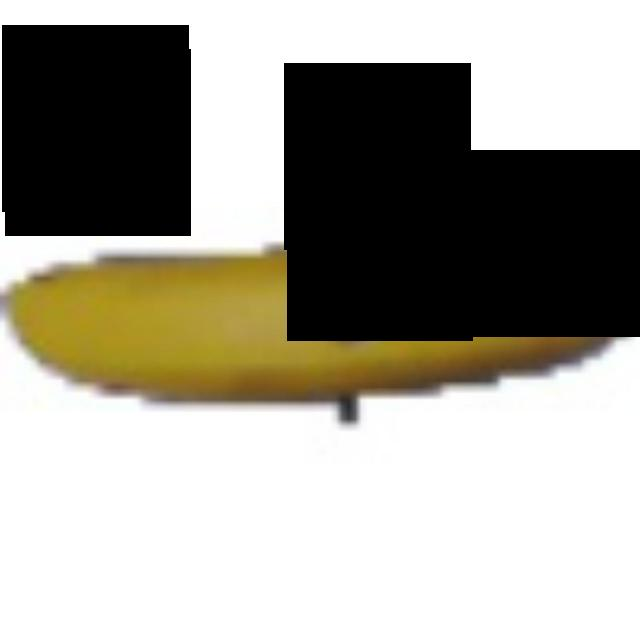banana: (0, 211, 634, 448)
